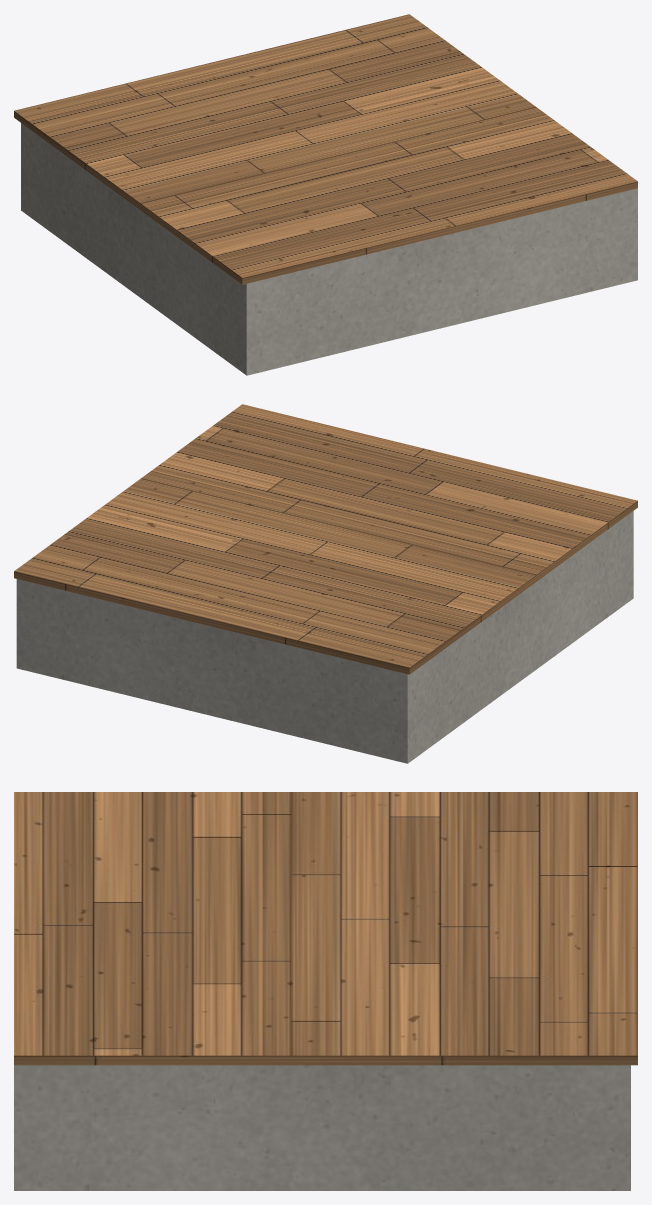
File: floor_wood_e0_20_0_20.glb
The picture shows the model from 3 angles, top to bottom: view 1: azimuth 30°, elevation 25°; view 2: azimuth 150°, elevation 25°; view 3: azimuth 270°, elevation 25°; orthographic projection. The views are drawn at different scales.
Visible parts, largest first — view 1: floor_wood_e0_20_0_20_floor, floor_wood_e0_20_0_20_concrete; view 2: floor_wood_e0_20_0_20_floor, floor_wood_e0_20_0_20_concrete; view 3: floor_wood_e0_20_0_20_floor, floor_wood_e0_20_0_20_concrete.
Boxes of the visible parts, x1,y1,x2,y2 form: floor_wood_e0_20_0_20_floor: (14, 14, 637, 284); floor_wood_e0_20_0_20_concrete: (21, 123, 637, 375); floor_wood_e0_20_0_20_floor: (14, 404, 637, 674); floor_wood_e0_20_0_20_concrete: (16, 511, 633, 763); floor_wood_e0_20_0_20_floor: (14, 792, 637, 1065); floor_wood_e0_20_0_20_concrete: (14, 1065, 630, 1190).
Size of the model in its own units: 1.8 by 0.43 by 1.8.
Materials: 2 (2 with a texture image).
